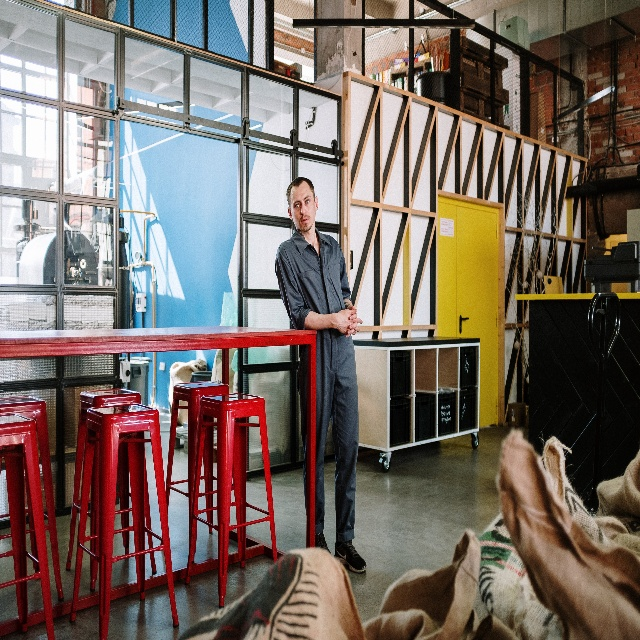Sin_guantes: (335, 308, 363, 337), (343, 304, 358, 340)
